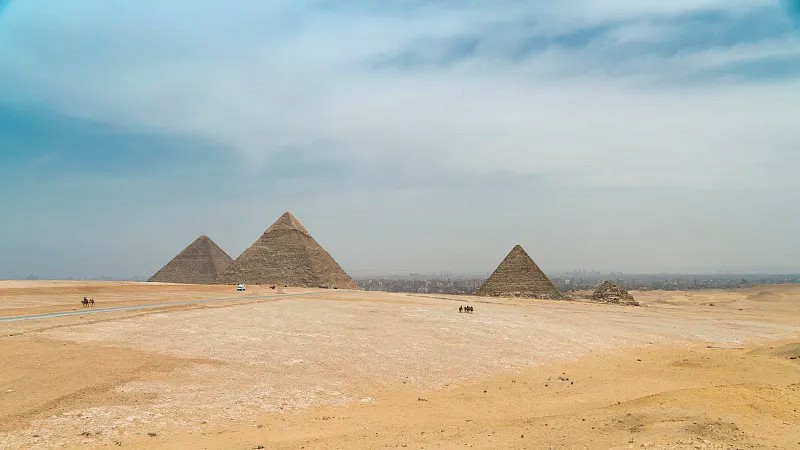Pyramid: (215, 211, 363, 288), (473, 245, 569, 299), (147, 236, 234, 285)
